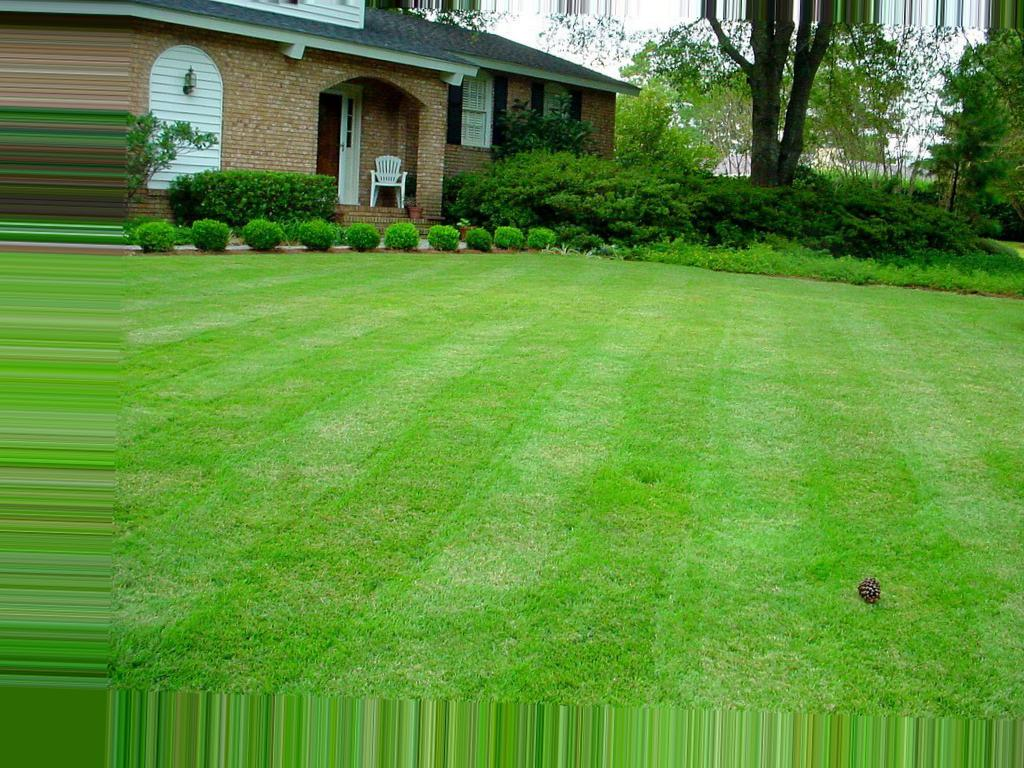patch: (847, 578, 887, 608)
